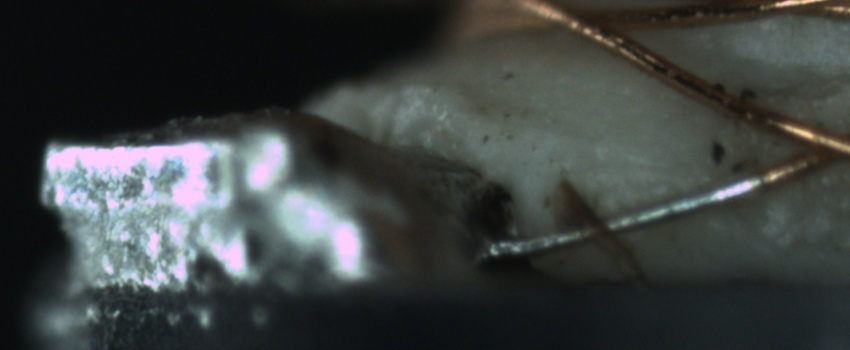CL: (753, 106, 845, 180)
DL: (552, 146, 714, 193)
TS: (489, 176, 764, 258)
